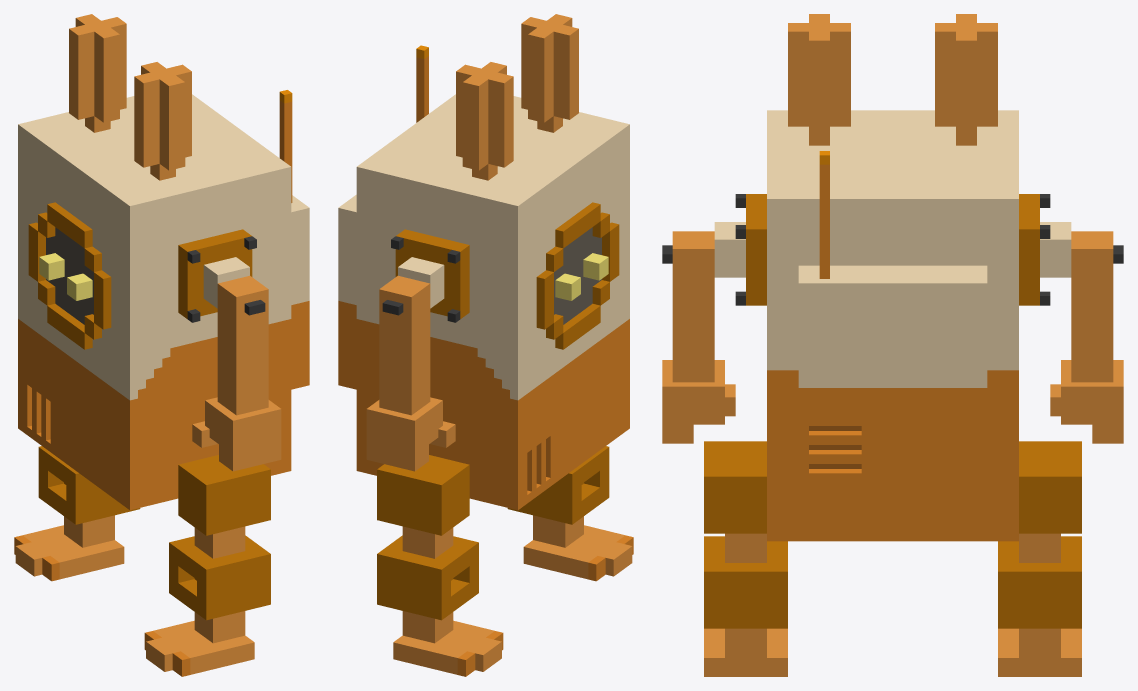
The model's file is Robot1.obj.
The picture shows the model from 3 angles, left to right: view 1: azimuth 30°, elevation 25°; view 2: azimuth 150°, elevation 25°; view 3: azimuth 270°, elevation 25°; orthographic projection. The views are drawn at different scales.
Size of the model in its own units: 2.6 by 6.6 by 4.4.
Materials: 1 (1 with a texture image).
